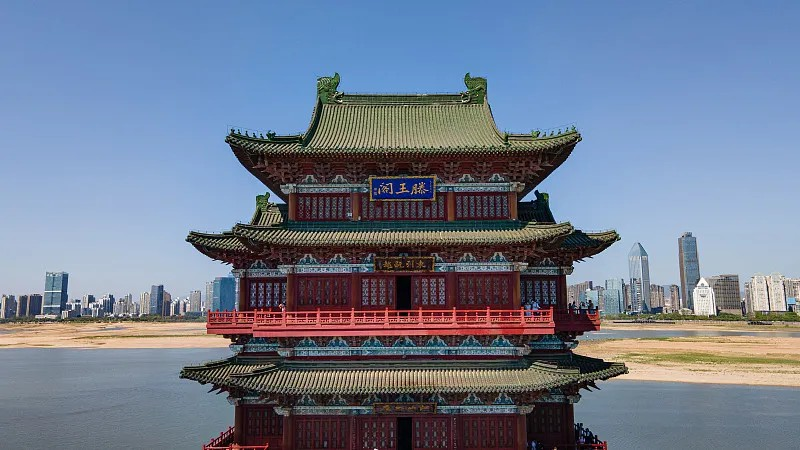Teng: (178, 73, 628, 450)
